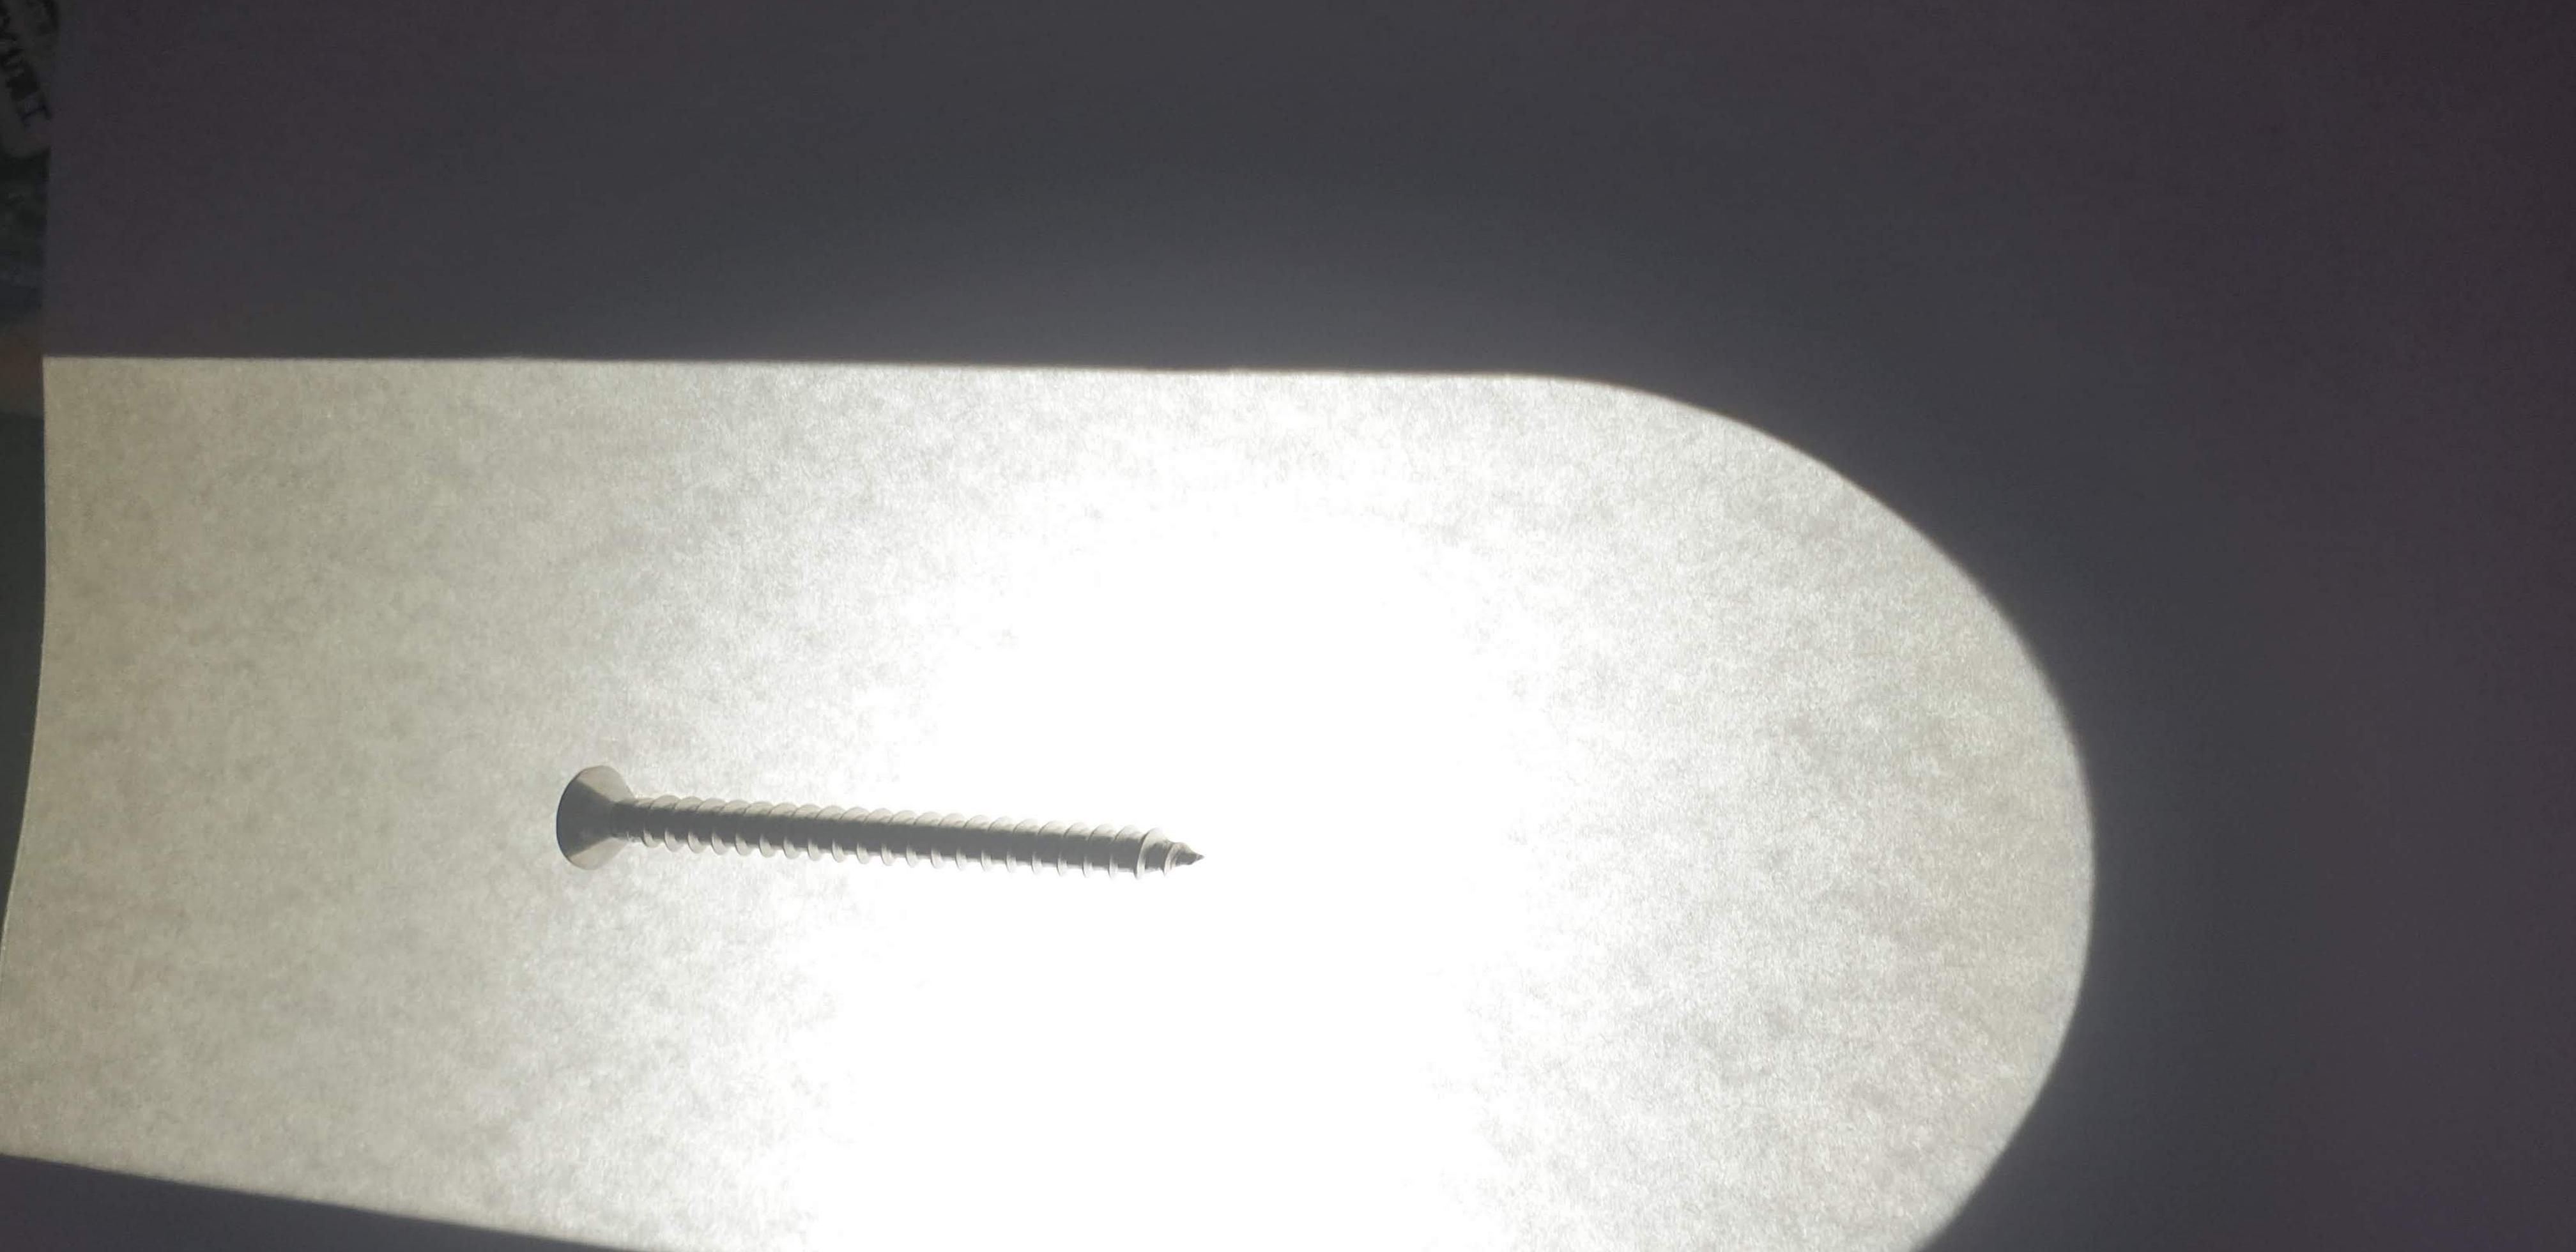S001: (532, 736, 1232, 925)
